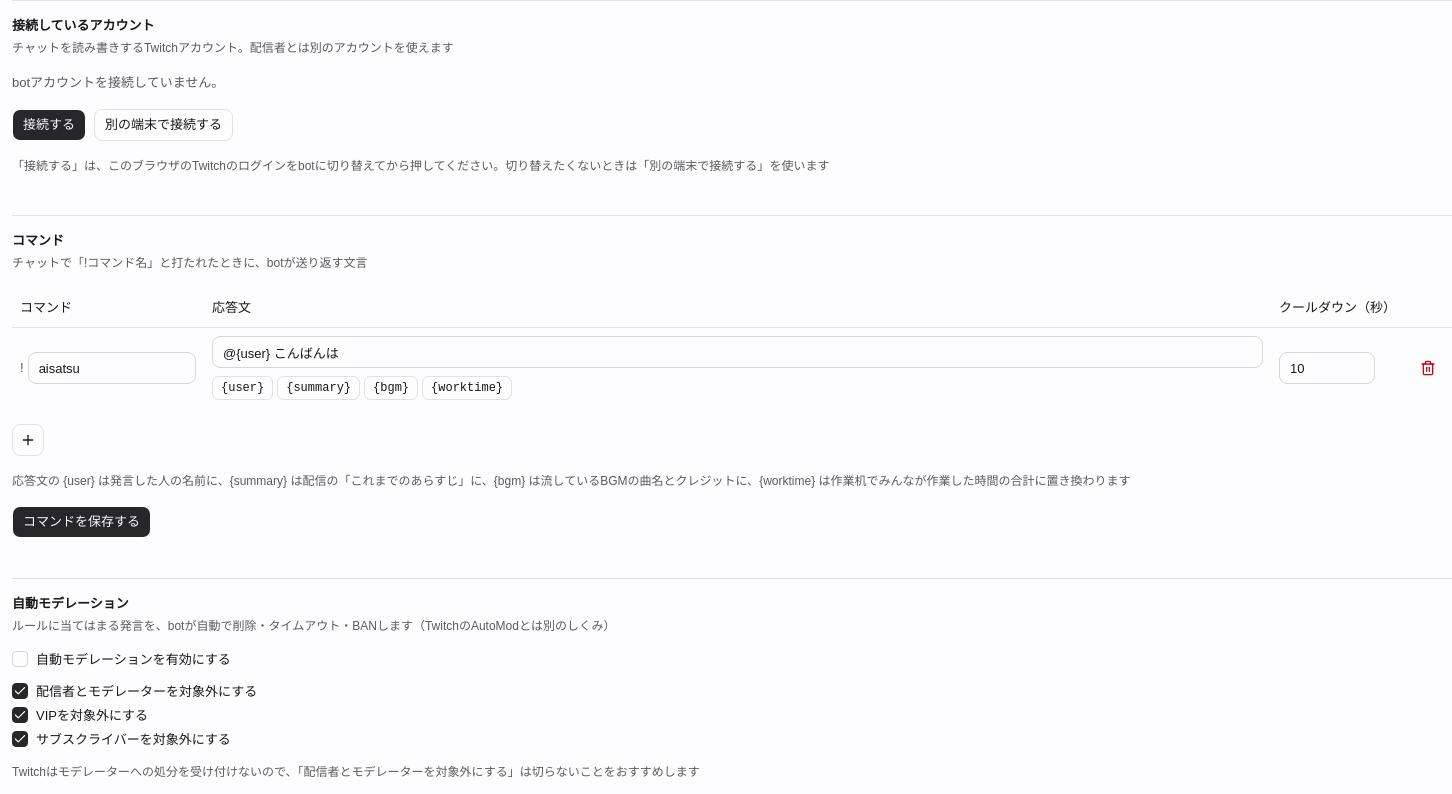
Test case: 別の端末での接続（デバイスコードフロー） › 認可が済んだら、接続済みの表示に切り替わる
Click the button "別の端末で接続する".
click(164, 125)  # box top-left (94, 109), bottom-right (233, 141)
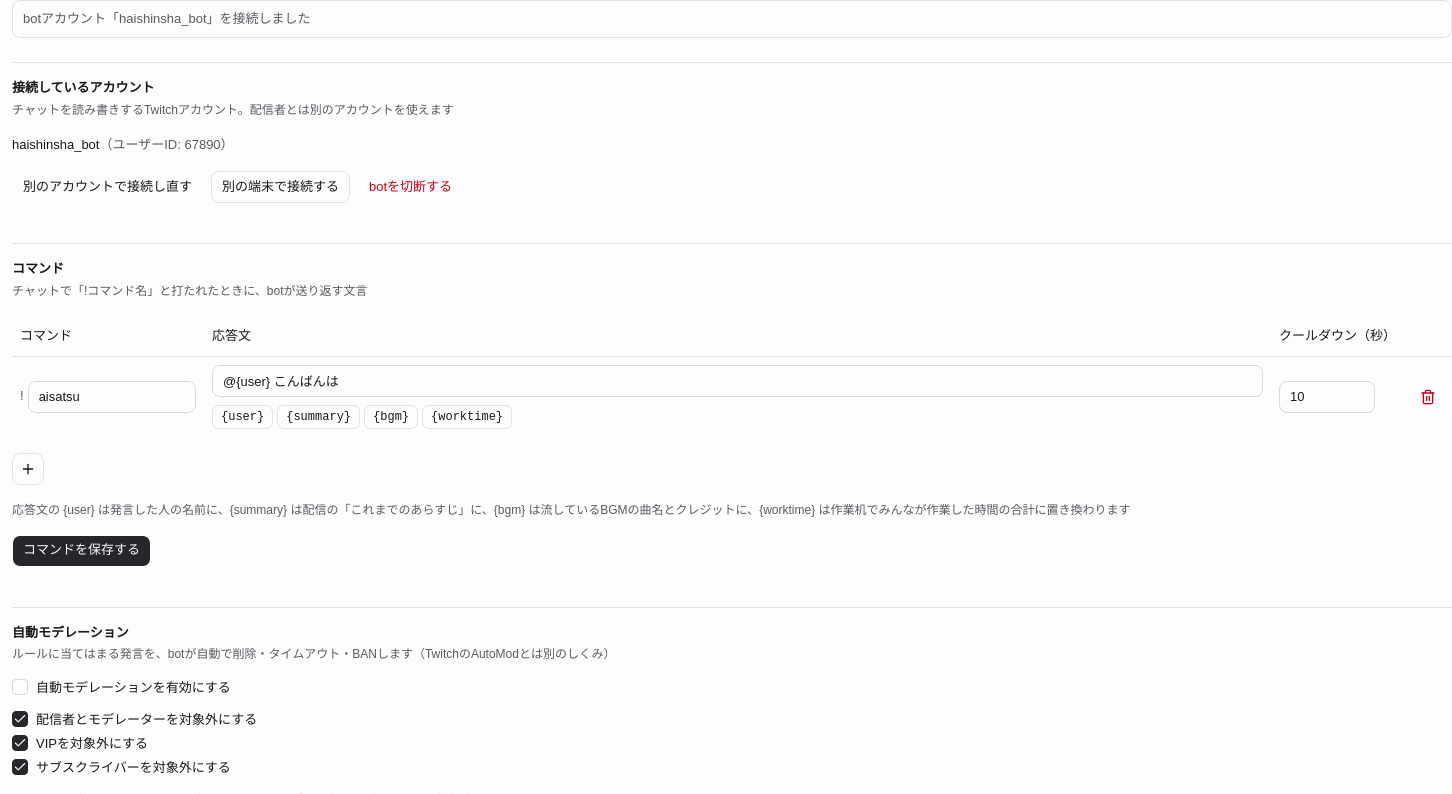
Result: the text "haishinsha_bot" is shown at top-left (12, 137), bottom-right (100, 152)
